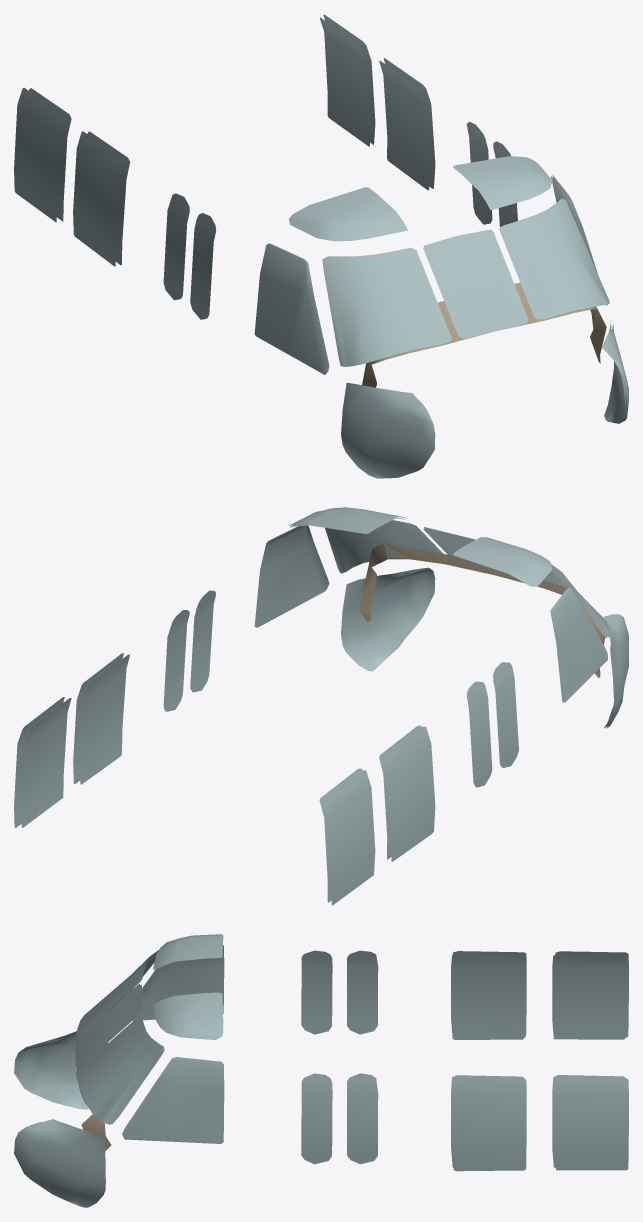
File: m_airlift_e554b4f0.glb
3 views of the same model, one above another, from view 1: azimuth 30°, elevation 25°; view 2: azimuth 150°, elevation 25°; view 3: azimuth 270°, elevation 25° (orthographic). The views are drawn at different scales.
Visible parts, largest first — view 1: mesh; view 2: mesh; view 3: mesh.
Part boxes in pixels (x1=…): mesh: x1=14, y1=14, x2=628, y2=478; mesh: x1=14, y1=507, x2=628, y2=905; mesh: x1=14, y1=934, x2=628, y2=1207.
Bounding box in the file's own units: 2703 × 1737 × 5255.
